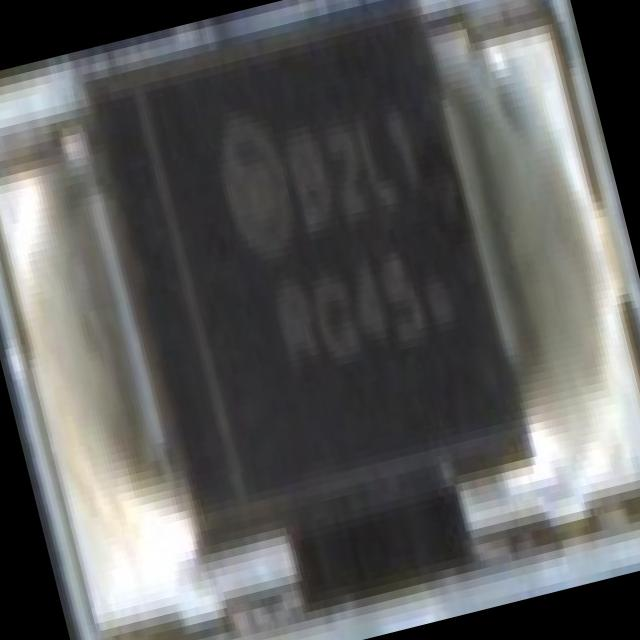diode: (60, 0, 589, 640)
